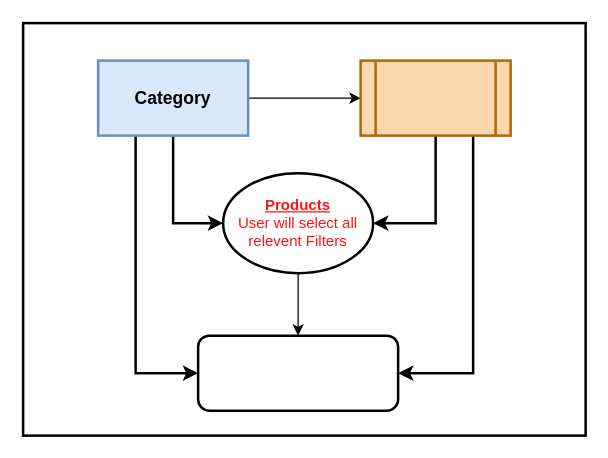
The diagram is 608 pixels wide and 458 high, and some of its shapes have lost their labels. The shapes that lost their labels are listed below. From the top down, each one's centre as x and y in pixels, then its label:
point (435, 97): Filter List
point (297, 372): Products Show in Users Template with their specific filters
